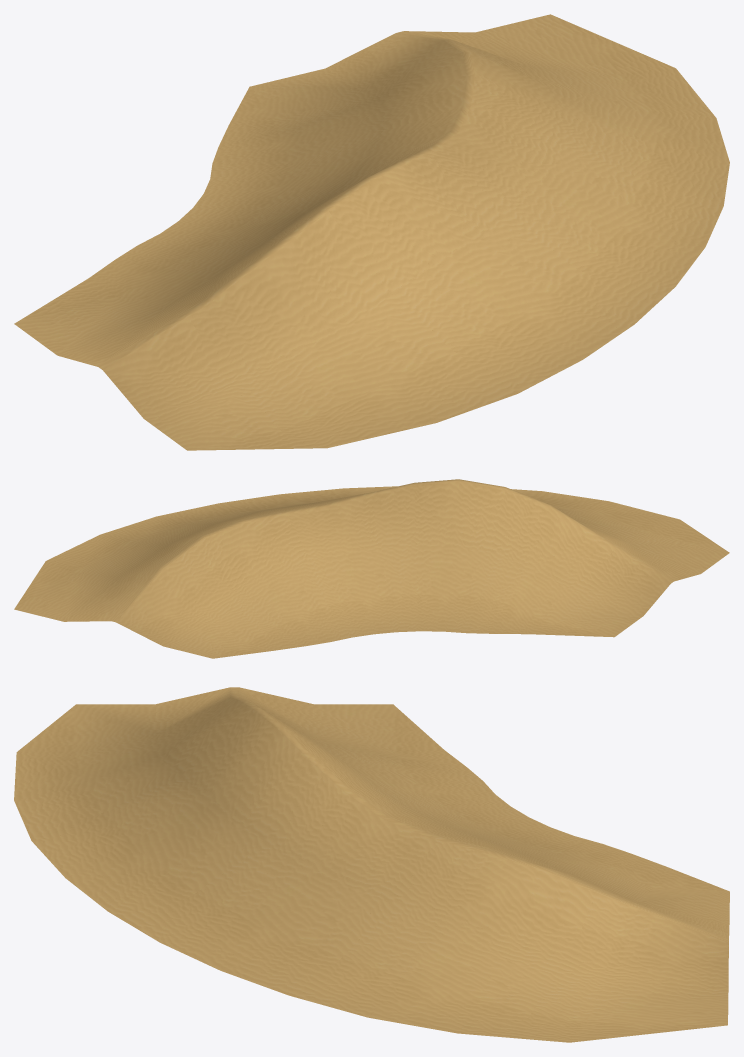
The model's file is SandDune_Corner.fbx.
The picture shows the model from 3 angles, top to bottom: view 1: azimuth 30°, elevation 25°; view 2: azimuth 150°, elevation 25°; view 3: azimuth 270°, elevation 25°; orthographic projection. The views are drawn at different scales.
Visible parts, largest first — view 1: SandDune_Corner; view 2: SandDune_Corner; view 3: SandDune_Corner.
Part boxes in pixels (bbox=[...]): SandDune_Corner: bbox=[14, 14, 729, 450]; SandDune_Corner: bbox=[14, 479, 729, 658]; SandDune_Corner: bbox=[14, 687, 729, 1042].
Bounding box in the file's own units: 2538 × 379 × 2268.
1 material, 1 textured.
